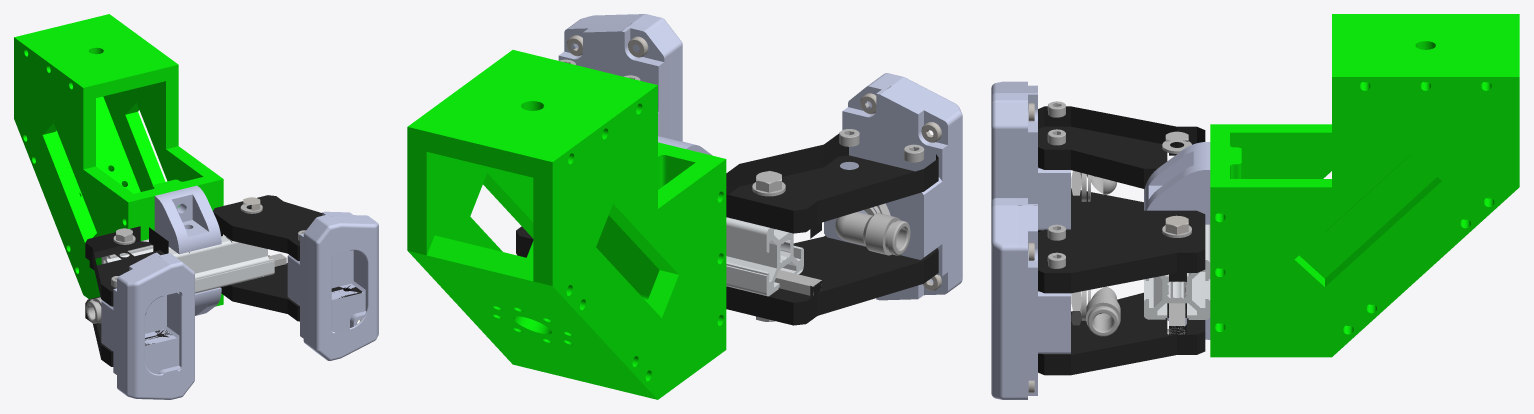
File: 06-Modular End Effector_Tool Base.dae
3 views of the same model, side by side, from view 1: azimuth 30°, elevation 25°; view 2: azimuth 150°, elevation 25°; view 3: azimuth 270°, elevation 25° (orthographic). The views are drawn at different scales.
Visible parts, largest first — view 1: Modular_End_Effetor_Tool_Base (×5), SDK_M1FR (×4), _MirrorSDK_M1FR (×4), SDK_Rail, AP_2020_Angle_Mirror, AP_2020_Angle; view 2: Modular_End_Effetor_Tool_Base (×5), _MirrorSDK_M1FR (×8), SDK_M1FR (×2), SDK_Rail (×2); view 3: Modular_End_Effetor_Tool_Base (×4), SDK_M1FR (×8), _MirrorSDK_M1FR (×4), AP_2020_Angle_Mirror, SDK_Rail.
Boxes of the visible parts, x1,y1,x2,y2 form: Modular_End_Effetor_Tool_Base (×5): (14, 14, 223, 306); SDK_M1FR (×4): (213, 195, 378, 360); _MirrorSDK_M1FR (×4): (85, 226, 194, 399); SDK_Rail: (103, 234, 274, 293); AP_2020_Angle_Mirror: (154, 185, 221, 254); AP_2020_Angle: (195, 287, 221, 315); Modular_End_Effetor_Tool_Base (×5): (407, 50, 726, 399); _MirrorSDK_M1FR (×8): (726, 73, 962, 325); SDK_M1FR (×2): (558, 14, 682, 141); SDK_Rail (×2): (726, 217, 803, 296); Modular_End_Effetor_Tool_Base (×4): (1210, 14, 1519, 357); SDK_M1FR (×8): (991, 198, 1205, 399); _MirrorSDK_M1FR (×4): (991, 81, 1205, 232); AP_2020_Angle_Mirror: (1144, 142, 1210, 224); SDK_Rail: (1144, 189, 1210, 319).
Size of the model in its own units: 119 by 159 by 95.5.
